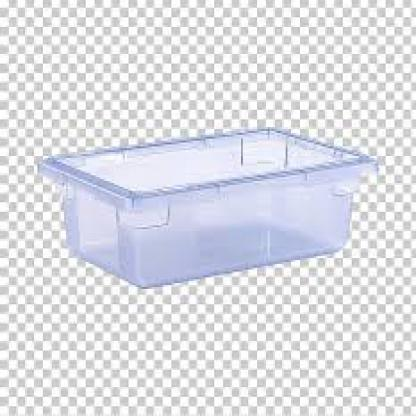plastic_box: (36, 100, 382, 299)
